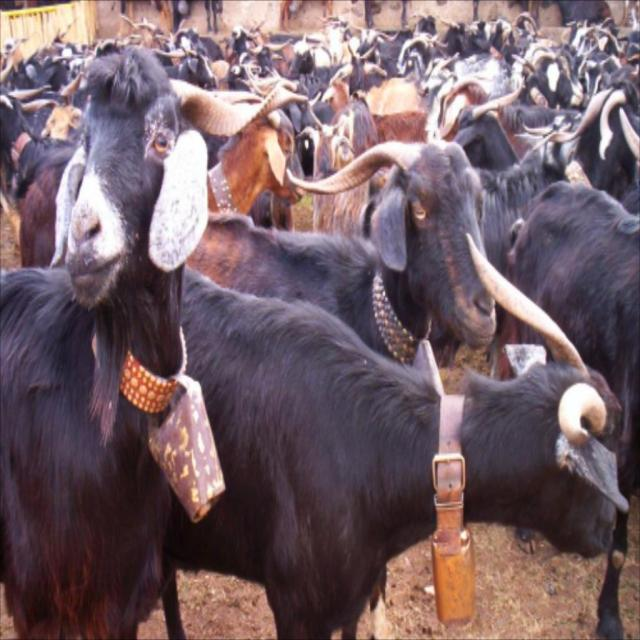Goat: (2, 42, 631, 638)
